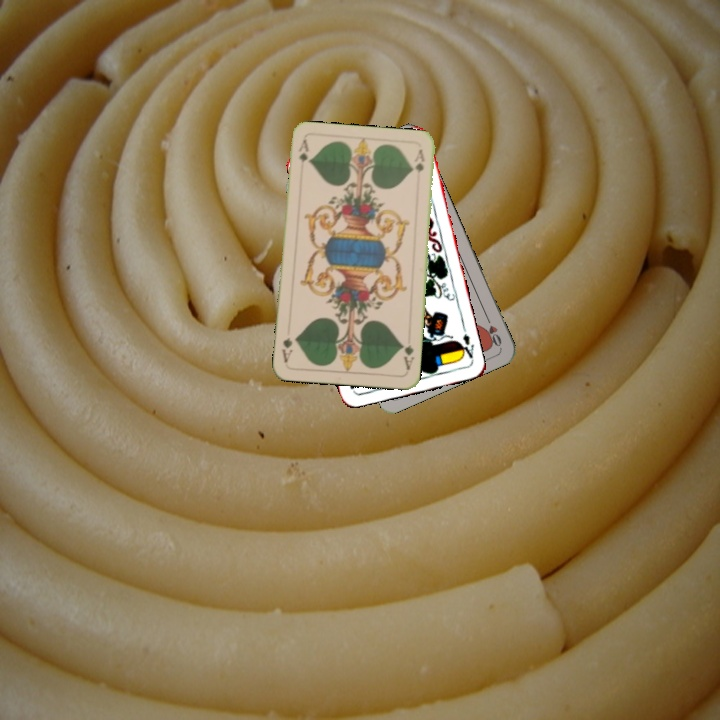EA: (455, 323, 476, 363)
GA: (294, 136, 312, 176), (398, 340, 417, 372)
HO: (481, 311, 504, 349)
